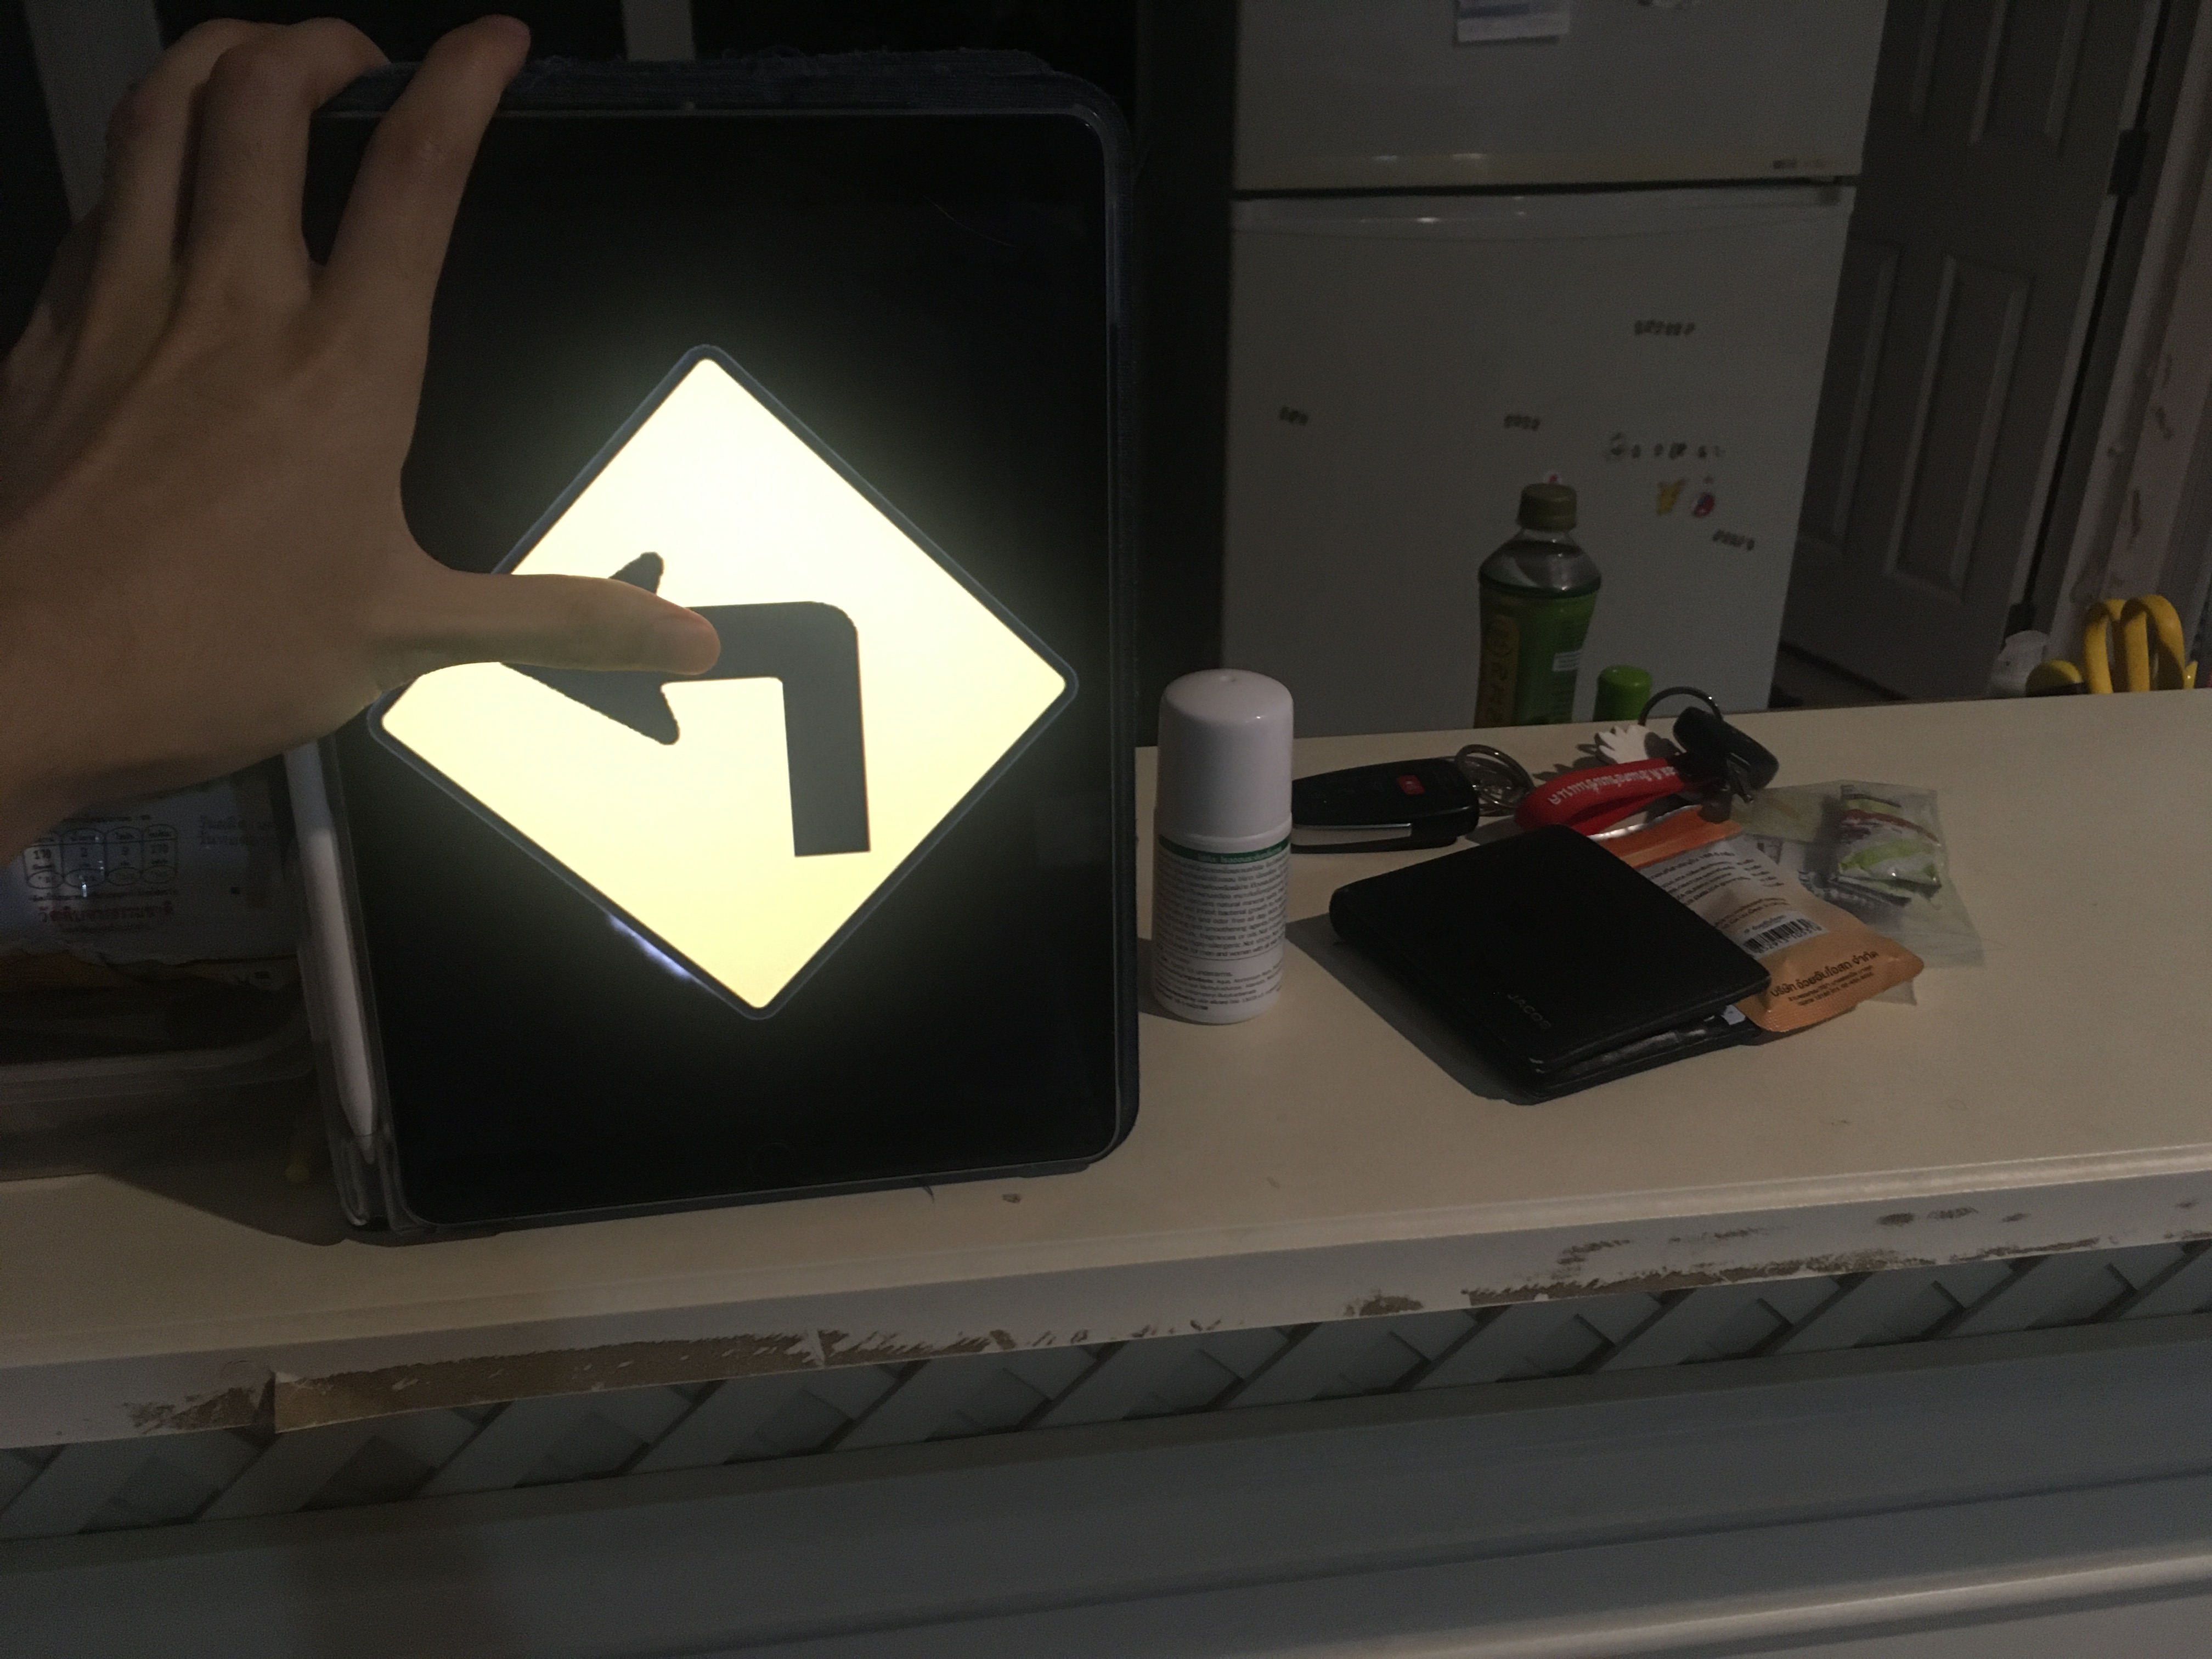left: (342, 310, 1096, 1022)
